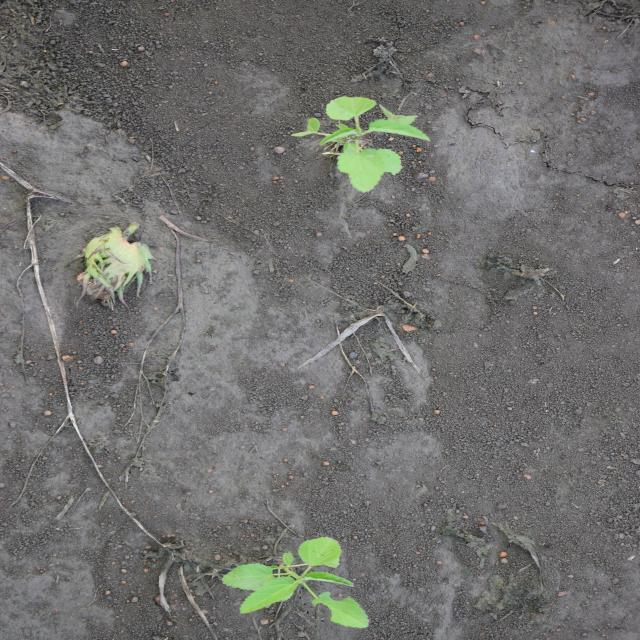PricklySida: (218, 535, 374, 630), (293, 95, 434, 196)
